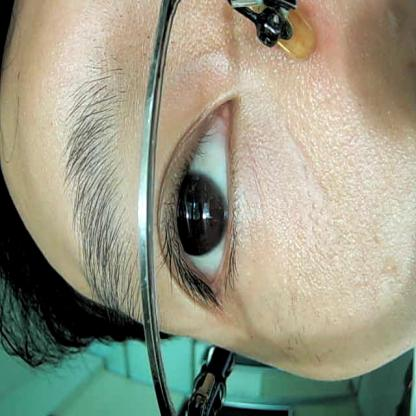Straight: (160, 93, 248, 315)
